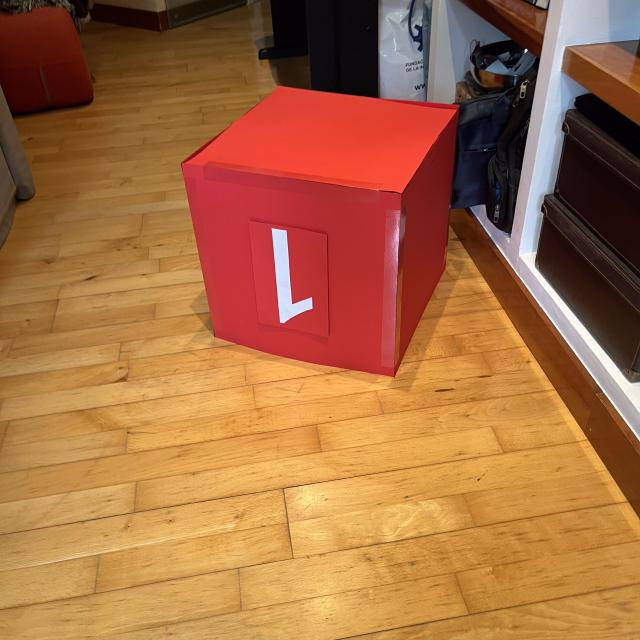box: (175, 81, 464, 380)
